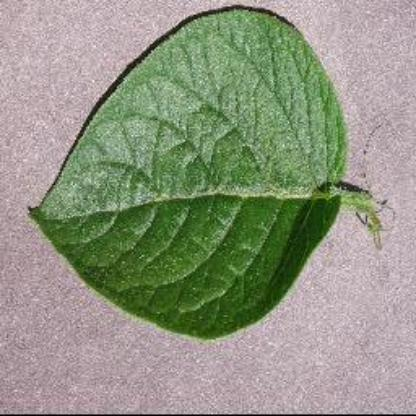Healthy-plant: (28, 6, 382, 342)
